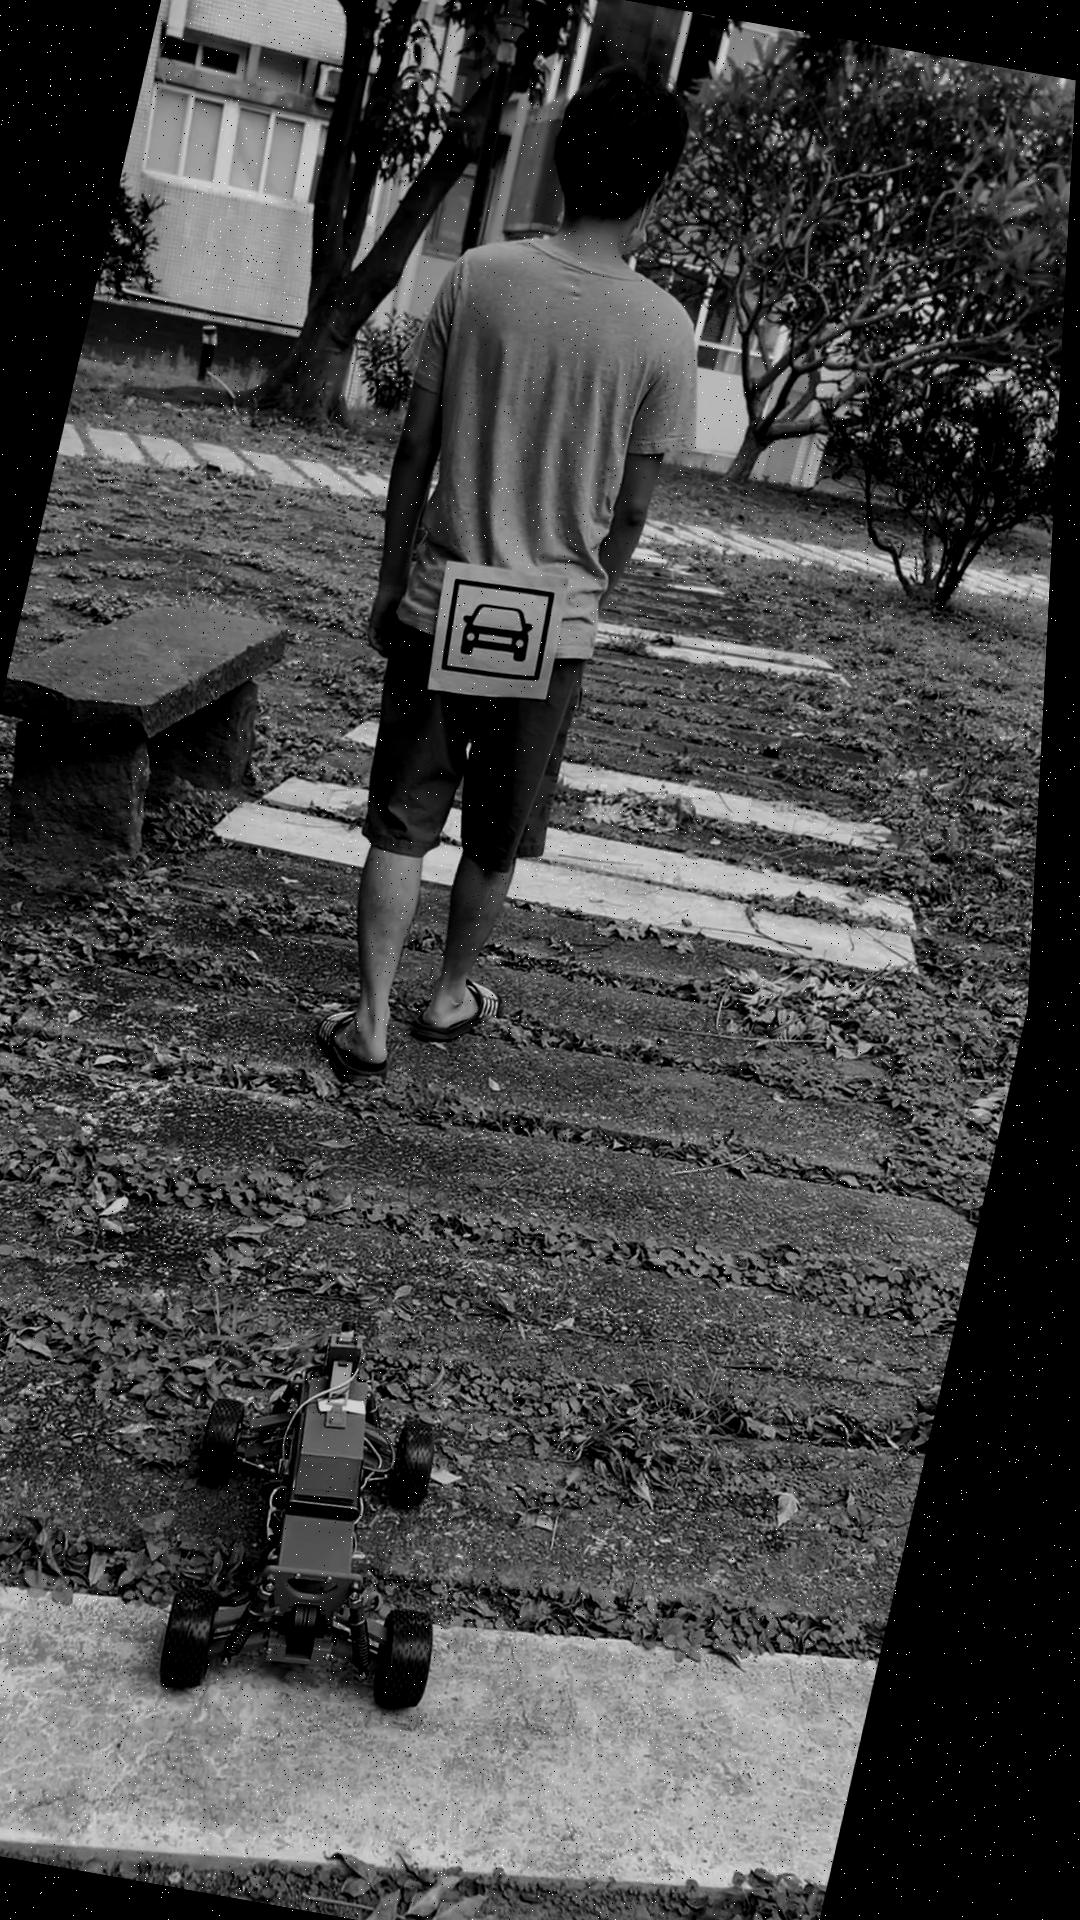car_img: (440, 574, 566, 687)
